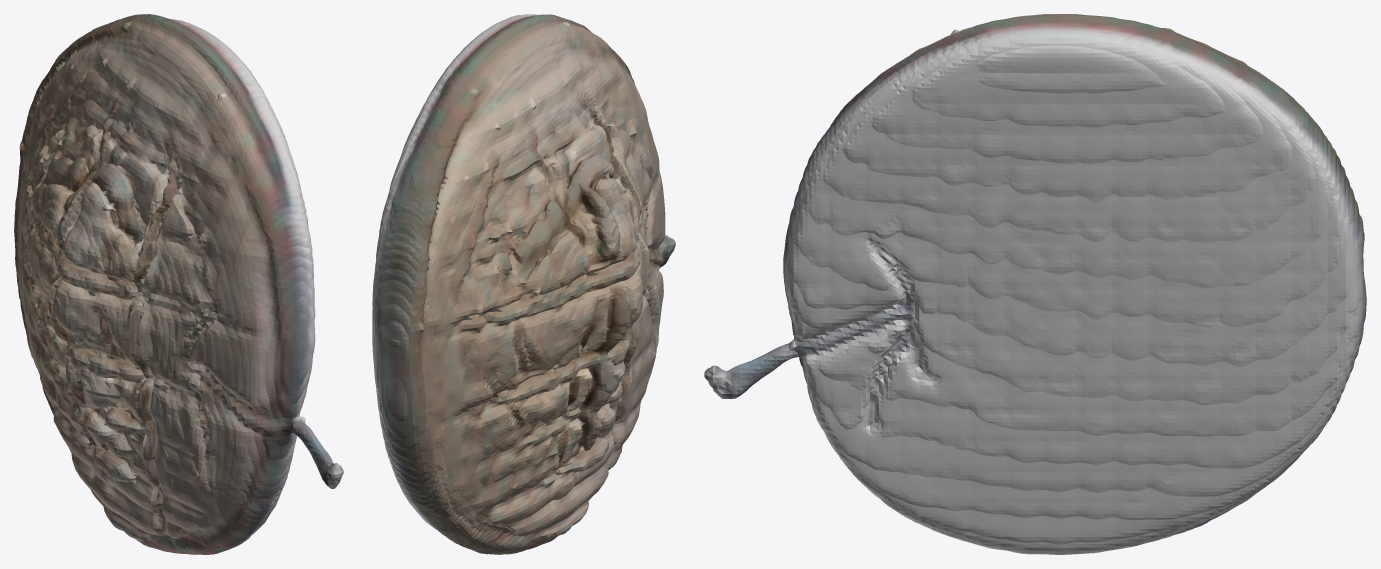
3 renders of one model, left to right at view 1: azimuth 30°, elevation 25°; view 2: azimuth 150°, elevation 25°; view 3: azimuth 270°, elevation 25°, orthographic. The views are drawn at different scales.
Visible parts, largest first — view 1: world; view 2: world; view 3: world.
Part boxes in pixels (left/top/right/bottom): world: left=14, top=14, right=343, bottom=554; world: left=372, top=14, right=675, bottom=554; world: left=704, top=14, right=1366, bottom=554.
Size of the model in its own units: 0.3295 by 0.9412 by 1.01.
